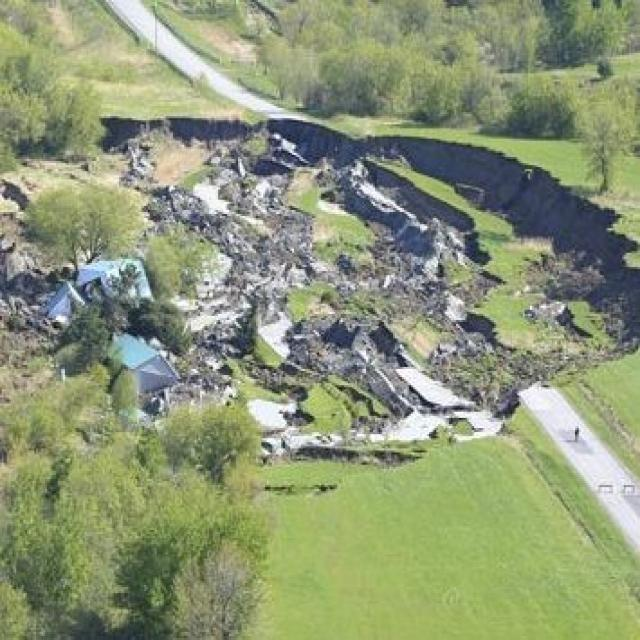collapsed_building: (20, 141, 544, 481)
